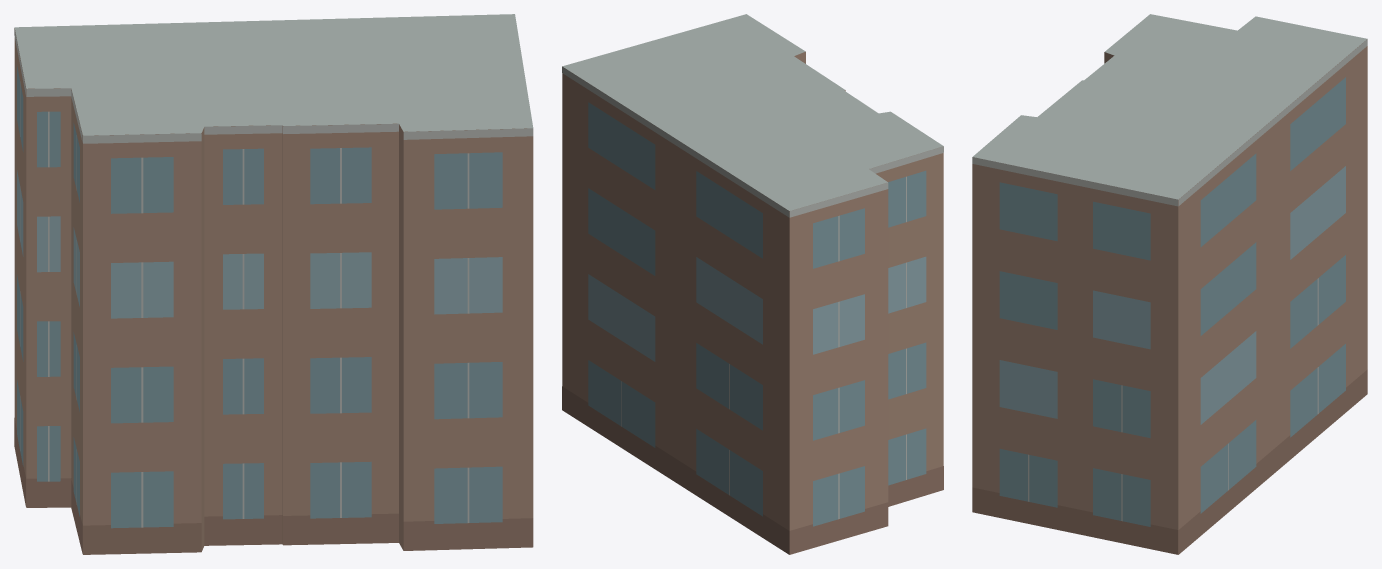
The model's file is survey-upis-32537537.glb.
3 views of the same model, side by side, from view 1: azimuth 30°, elevation 25°; view 2: azimuth 150°, elevation 25°; view 3: azimuth 270°, elevation 25° (orthographic). The views are drawn at different scales.
Visible parts, largest first — view 1: survey-upis-32537537.tmp; view 2: survey-upis-32537537.tmp; view 3: survey-upis-32537537.tmp.
Boxes of the visible parts, left/top/right/bottom form: survey-upis-32537537.tmp: left=14, top=14, right=533, bottom=554; survey-upis-32537537.tmp: left=562, top=14, right=943, bottom=554; survey-upis-32537537.tmp: left=972, top=14, right=1367, bottom=554.
Size of the model in its own units: 14.13 by 12.6 by 12.71.
